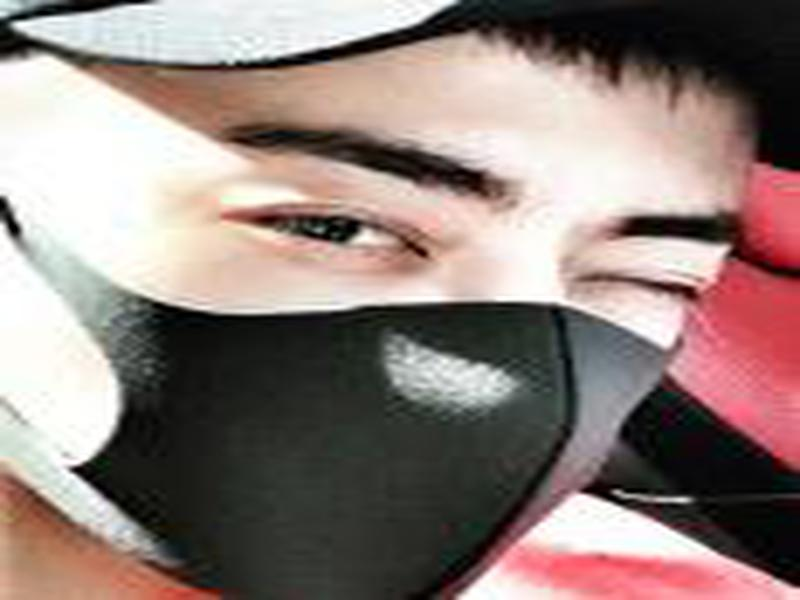with_mask: (1, 18, 772, 600)
